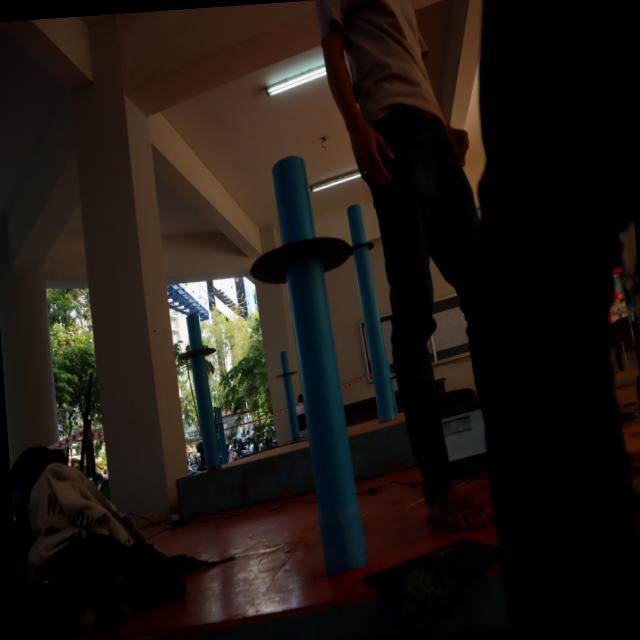pole: (241, 150, 364, 363), (178, 309, 221, 395), (341, 198, 378, 274)
